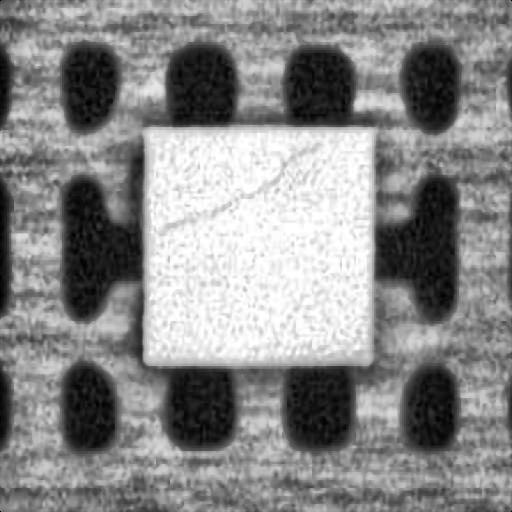DIE_CRACK: (163, 133, 324, 228)
